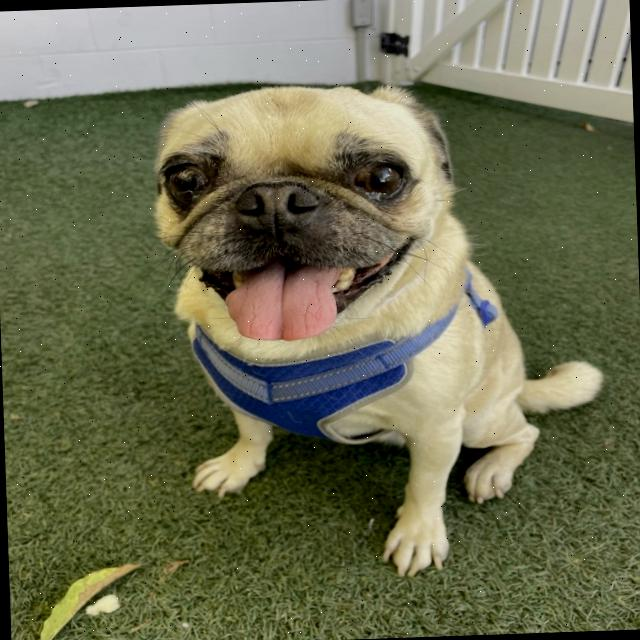pug_dog: (134, 71, 478, 356)
